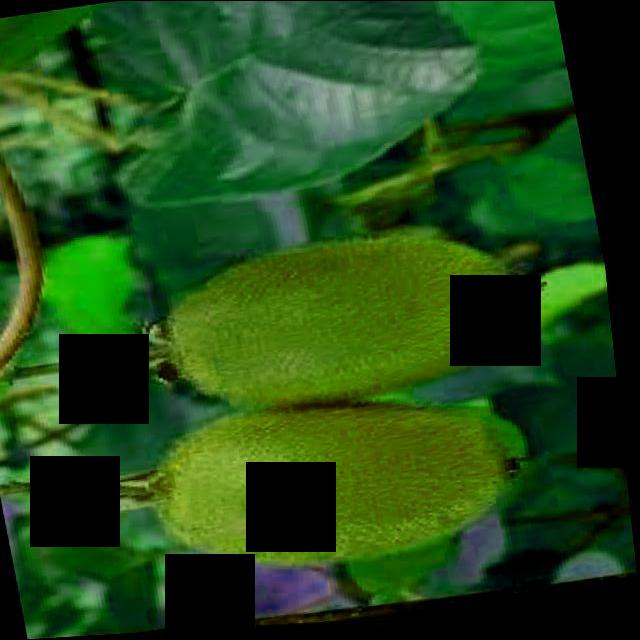kiwi: (148, 222, 554, 433), (137, 383, 539, 595)
